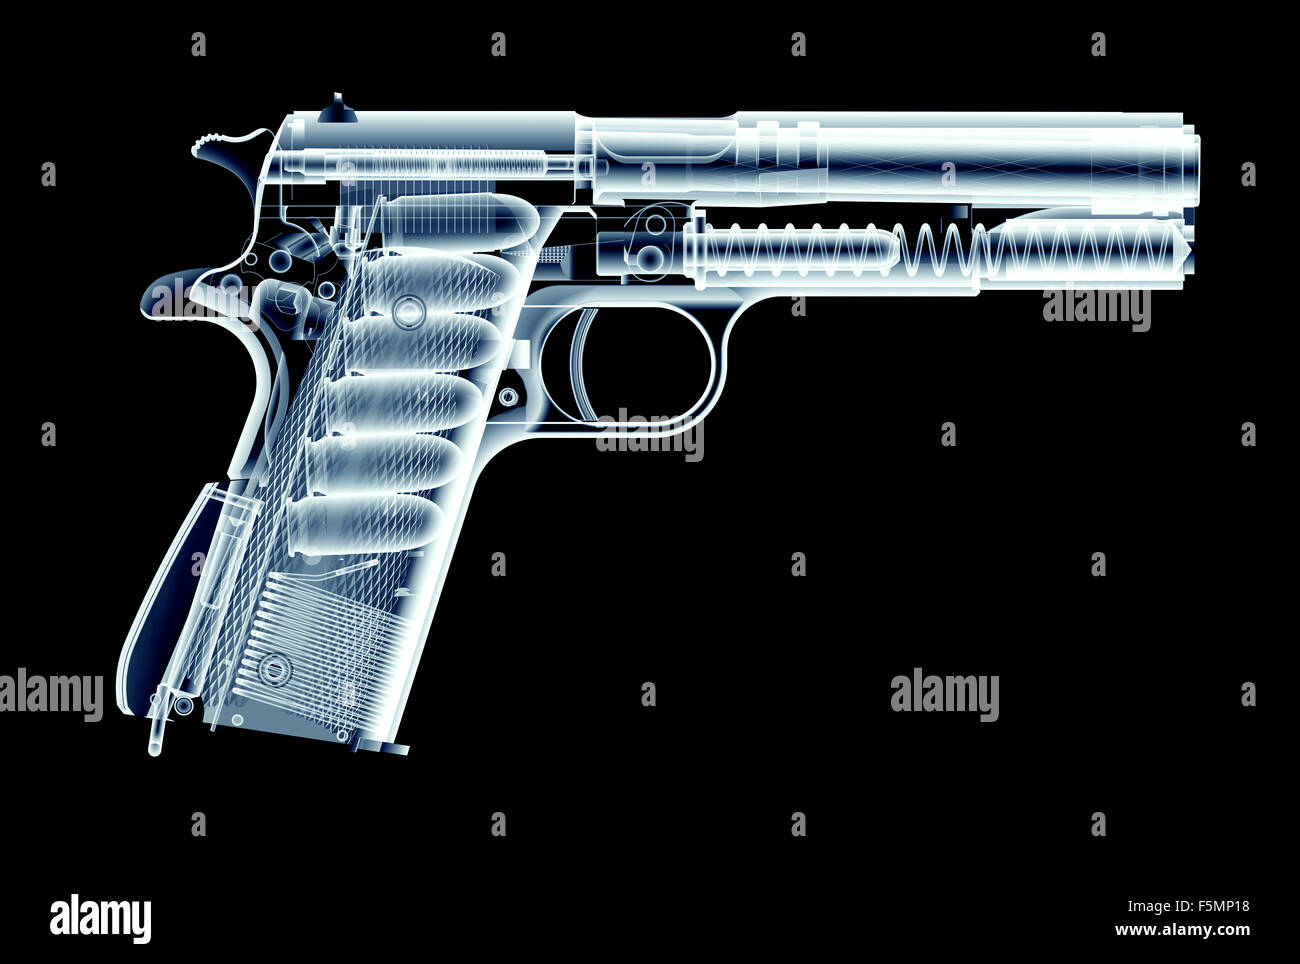gun: (131, 80, 1226, 758)
